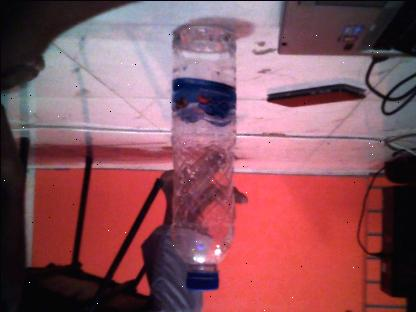Plastic Bottle: (169, 22, 241, 292)
